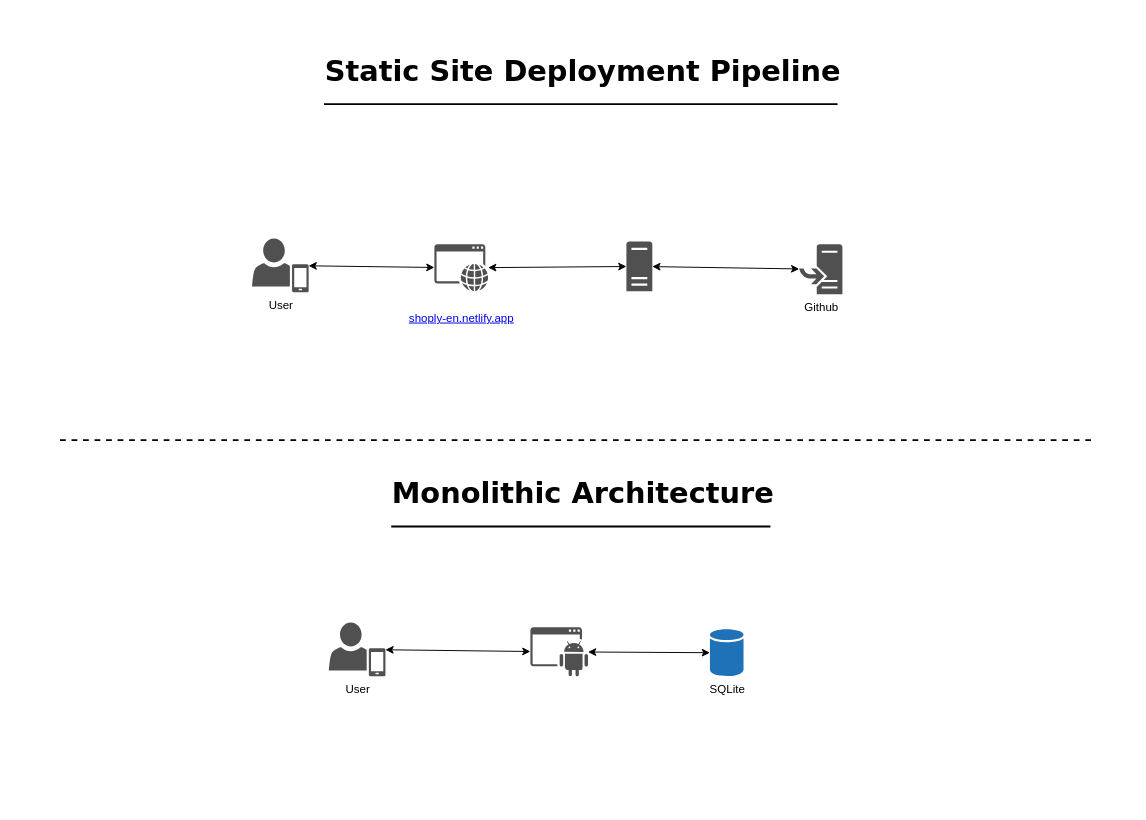
Some shapes in this 1146 by 820 pixel diagram are drawn without their labels. The shapes that lost their labels are listed below. From the top down, each one's centre as x and y in pixels, then its label:
pixel 639 266: Netlify
pixel 559 651: Shop.ly
